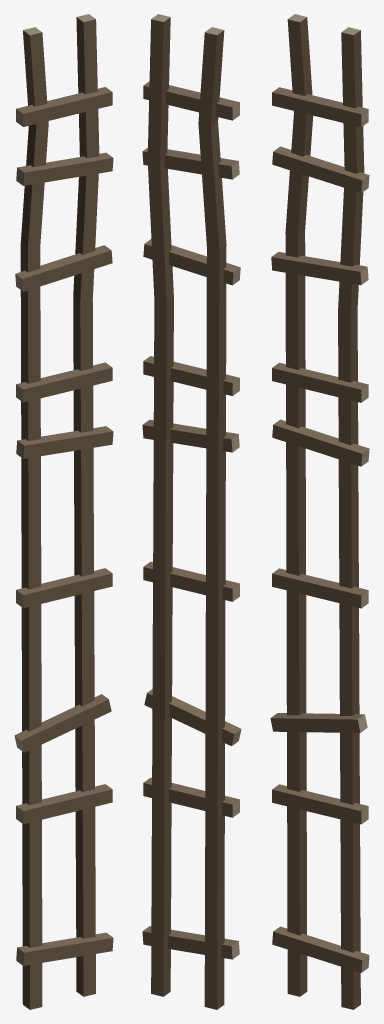
The model's file is SF_Prop_Goblin_Ladder_01.fbx.
3 views of the same model, side by side, from view 1: azimuth 30°, elevation 25°; view 2: azimuth 150°, elevation 25°; view 3: azimuth 330°, elevation 25° (orthographic).
Visible parts, largest first — view 1: SF_Prop_Goblin_Ladder_01; view 2: SF_Prop_Goblin_Ladder_01; view 3: SF_Prop_Goblin_Ladder_01.
Boxes of the visible parts, x1,y1,x2,y2 form: SF_Prop_Goblin_Ladder_01: (14, 14, 113, 1009); SF_Prop_Goblin_Ladder_01: (142, 14, 241, 1009); SF_Prop_Goblin_Ladder_01: (270, 14, 369, 1009).
Bounding box in the file's own units: 1.54 × 15.6 × 0.3371.
